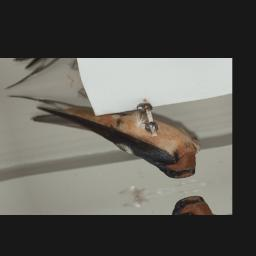Swallow: (6, 68, 204, 205)
